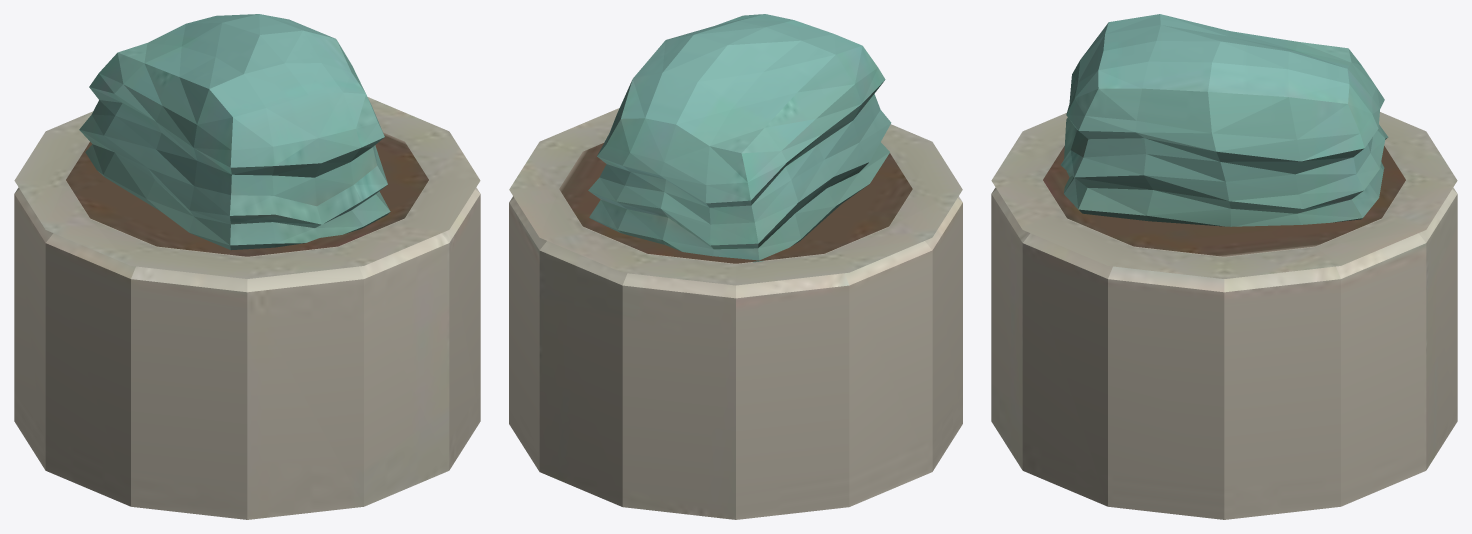
Rendered from gate_planter_bush.glb.
The picture shows the model from 3 angles, left to right: view 1: azimuth 30°, elevation 25°; view 2: azimuth 150°, elevation 25°; view 3: azimuth 270°, elevation 25°; orthographic projection. The views are drawn at different scales.
Visible parts, largest first — view 1: gate_planter_bush; view 2: gate_planter_bush; view 3: gate_planter_bush.
Boxes of the visible parts, bbox=[...] form: gate_planter_bush: bbox=[14, 14, 480, 519]; gate_planter_bush: bbox=[509, 14, 962, 519]; gate_planter_bush: bbox=[991, 14, 1457, 519].
Bounding box in the file's own units: 0.68 × 0.62 × 0.68.
Materials: 1 (1 with a texture image).
